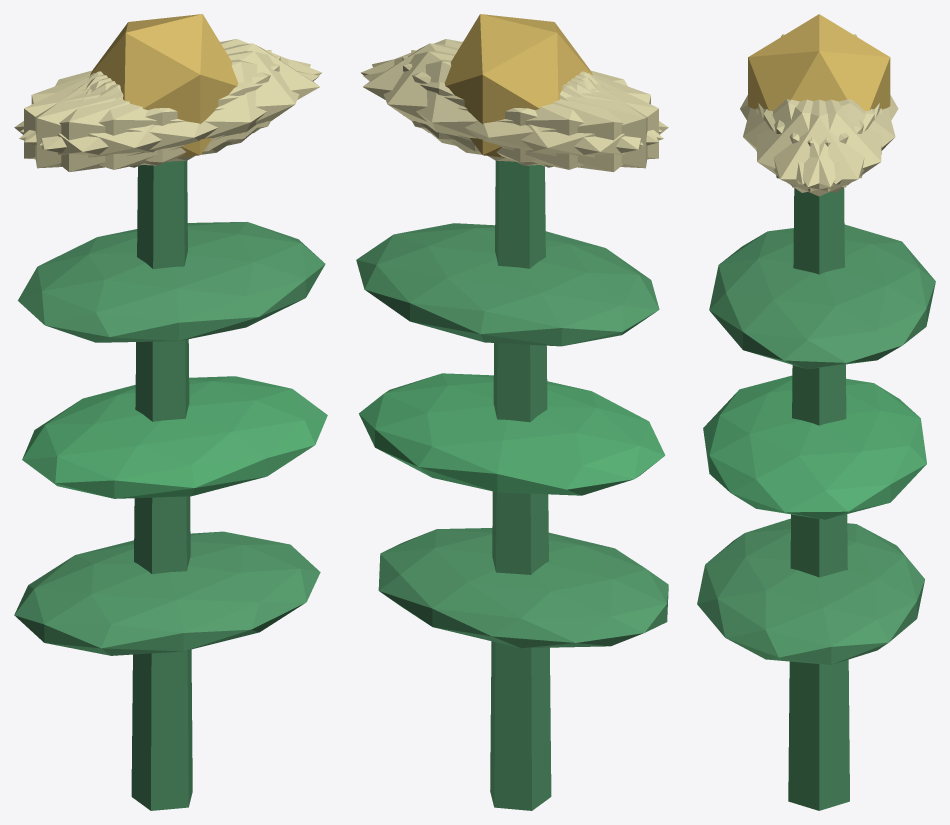
File: wollastonia-biflora.glb
The picture shows the model from 3 angles, left to right: view 1: azimuth 30°, elevation 25°; view 2: azimuth 150°, elevation 25°; view 3: azimuth 270°, elevation 25°; orthographic projection.
Parts seen in each view (by area): view 1: leaf0, leaf1, leaf2, stem, center, petal1, petal6, petal2, petal5, petal7, petal0, petal4 (+2 smaller); view 2: leaf2, leaf1, leaf0, stem, center, petal8, petal3, petal7, petal4, petal2, petal0, petal5 (+2 smaller); view 3: leaf2, leaf1, leaf0, stem, center, petal0, petal4, petal5, petal8, petal1.
Boxes of the visible parts, left/top/right/bottom form: leaf0: left=14, top=531, right=320, bottom=655; leaf1: left=22, top=376, right=327, bottom=498; leaf2: left=18, top=222, right=325, bottom=342; stem: left=131, top=160, right=192, bottom=810; center: left=90, top=14, right=238, bottom=157; petal1: left=19, top=59, right=319, bottom=169; petal6: left=14, top=73, right=231, bottom=171; petal2: left=35, top=50, right=271, bottom=168; petal5: left=39, top=51, right=310, bottom=162; petal7: left=24, top=56, right=280, bottom=165; petal0: left=90, top=43, right=319, bottom=151; petal4: left=20, top=39, right=321, bottom=142; leaf2: left=356, top=223, right=659, bottom=346; leaf1: left=359, top=373, right=665, bottom=495; leaf0: left=378, top=528, right=668, bottom=648; stem: left=490, top=160, right=551, bottom=810; center: left=444, top=14, right=592, bottom=157; petal8: left=363, top=59, right=663, bottom=169; petal3: left=451, top=73, right=668, bottom=171; petal7: left=411, top=50, right=647, bottom=168; petal4: left=372, top=51, right=643, bottom=162; petal2: left=402, top=56, right=658, bottom=165; petal0: left=363, top=43, right=592, bottom=151; petal5: left=361, top=39, right=662, bottom=142; leaf2: left=709, top=224, right=935, bottom=369; leaf1: left=703, top=375, right=926, bottom=519; leaf0: left=697, top=518, right=924, bottom=664; stem: left=788, top=188, right=849, bottom=810; center: left=748, top=14, right=890, bottom=110; petal0: left=758, top=99, right=879, bottom=196; petal4: left=763, top=99, right=881, bottom=192; petal5: left=756, top=99, right=874, bottom=192; petal8: left=774, top=99, right=895, bottom=184; petal1: left=743, top=99, right=863, bottom=184.
Size of the model in its own units: 0.1452 by 0.3636 by 0.103.
